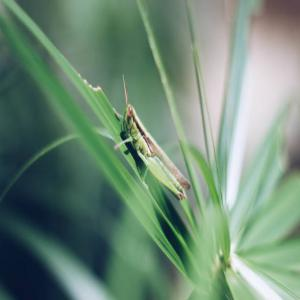locust: (112, 63, 193, 208)
